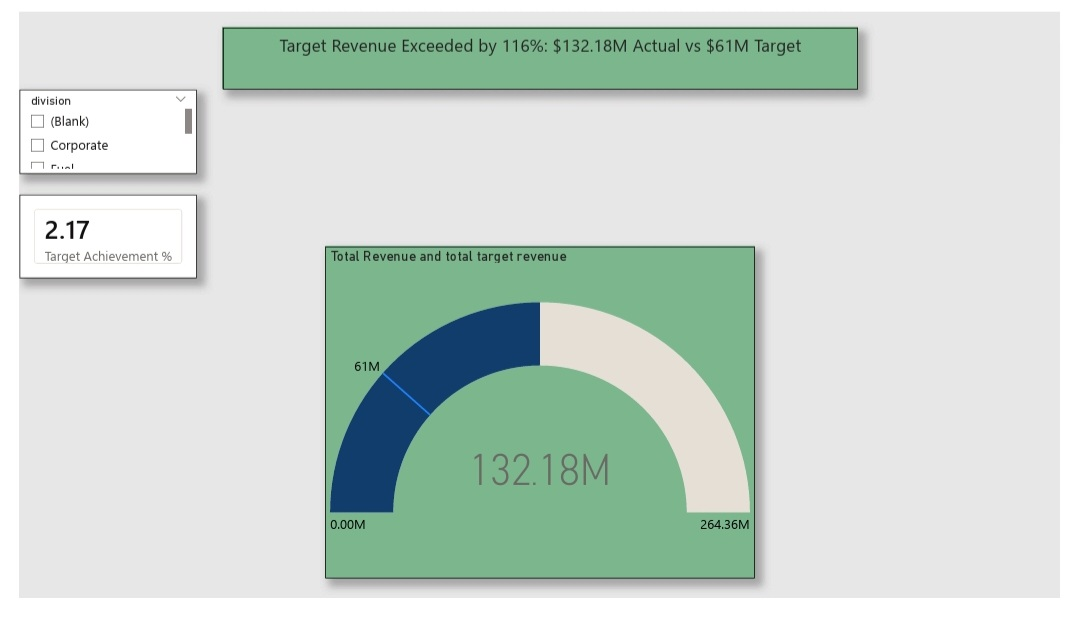

Layout of this report page (visuals, bound fields, positions):
{"tool":"powerbi","page":{"name":"Target vs Actual","canvas":[1280,720],"ordinal":3},"visuals":[{"type":"gauge","fields":{"Y":["key measures.Total Revenue"],"TargetValue":["key measures.total target revenue"]},"box":[376,288.2,528.3,407.5],"z":0},{"type":"textbox","box":[249.7,19.2,780.8,75.5],"z":2},{"type":"slicer","fields":{"Values":["departments.division"]},"box":[0,94.7,218.2,104.3],"z":3},{"type":"cardVisual","fields":{"Data":["key measures.Target Achievement %"]},"box":[0,223.7,218.2,102.9],"z":4}]}

Visuals, with their boxes in screenshot pixels (x1, y1, x2, y2), scaled from the page's 1280x720 canvas onto the 1080x617 screenshot:
gauge - key measures.Total Revenue x key measures.total target revenue: {"left": 317, "top": 247, "right": 763, "bottom": 596}
textbox: {"left": 211, "top": 16, "right": 869, "bottom": 81}
slicer - departments.division: {"left": 0, "top": 81, "right": 184, "bottom": 171}
cardVisual - key measures.Target Achievement %: {"left": 0, "top": 192, "right": 184, "bottom": 280}
